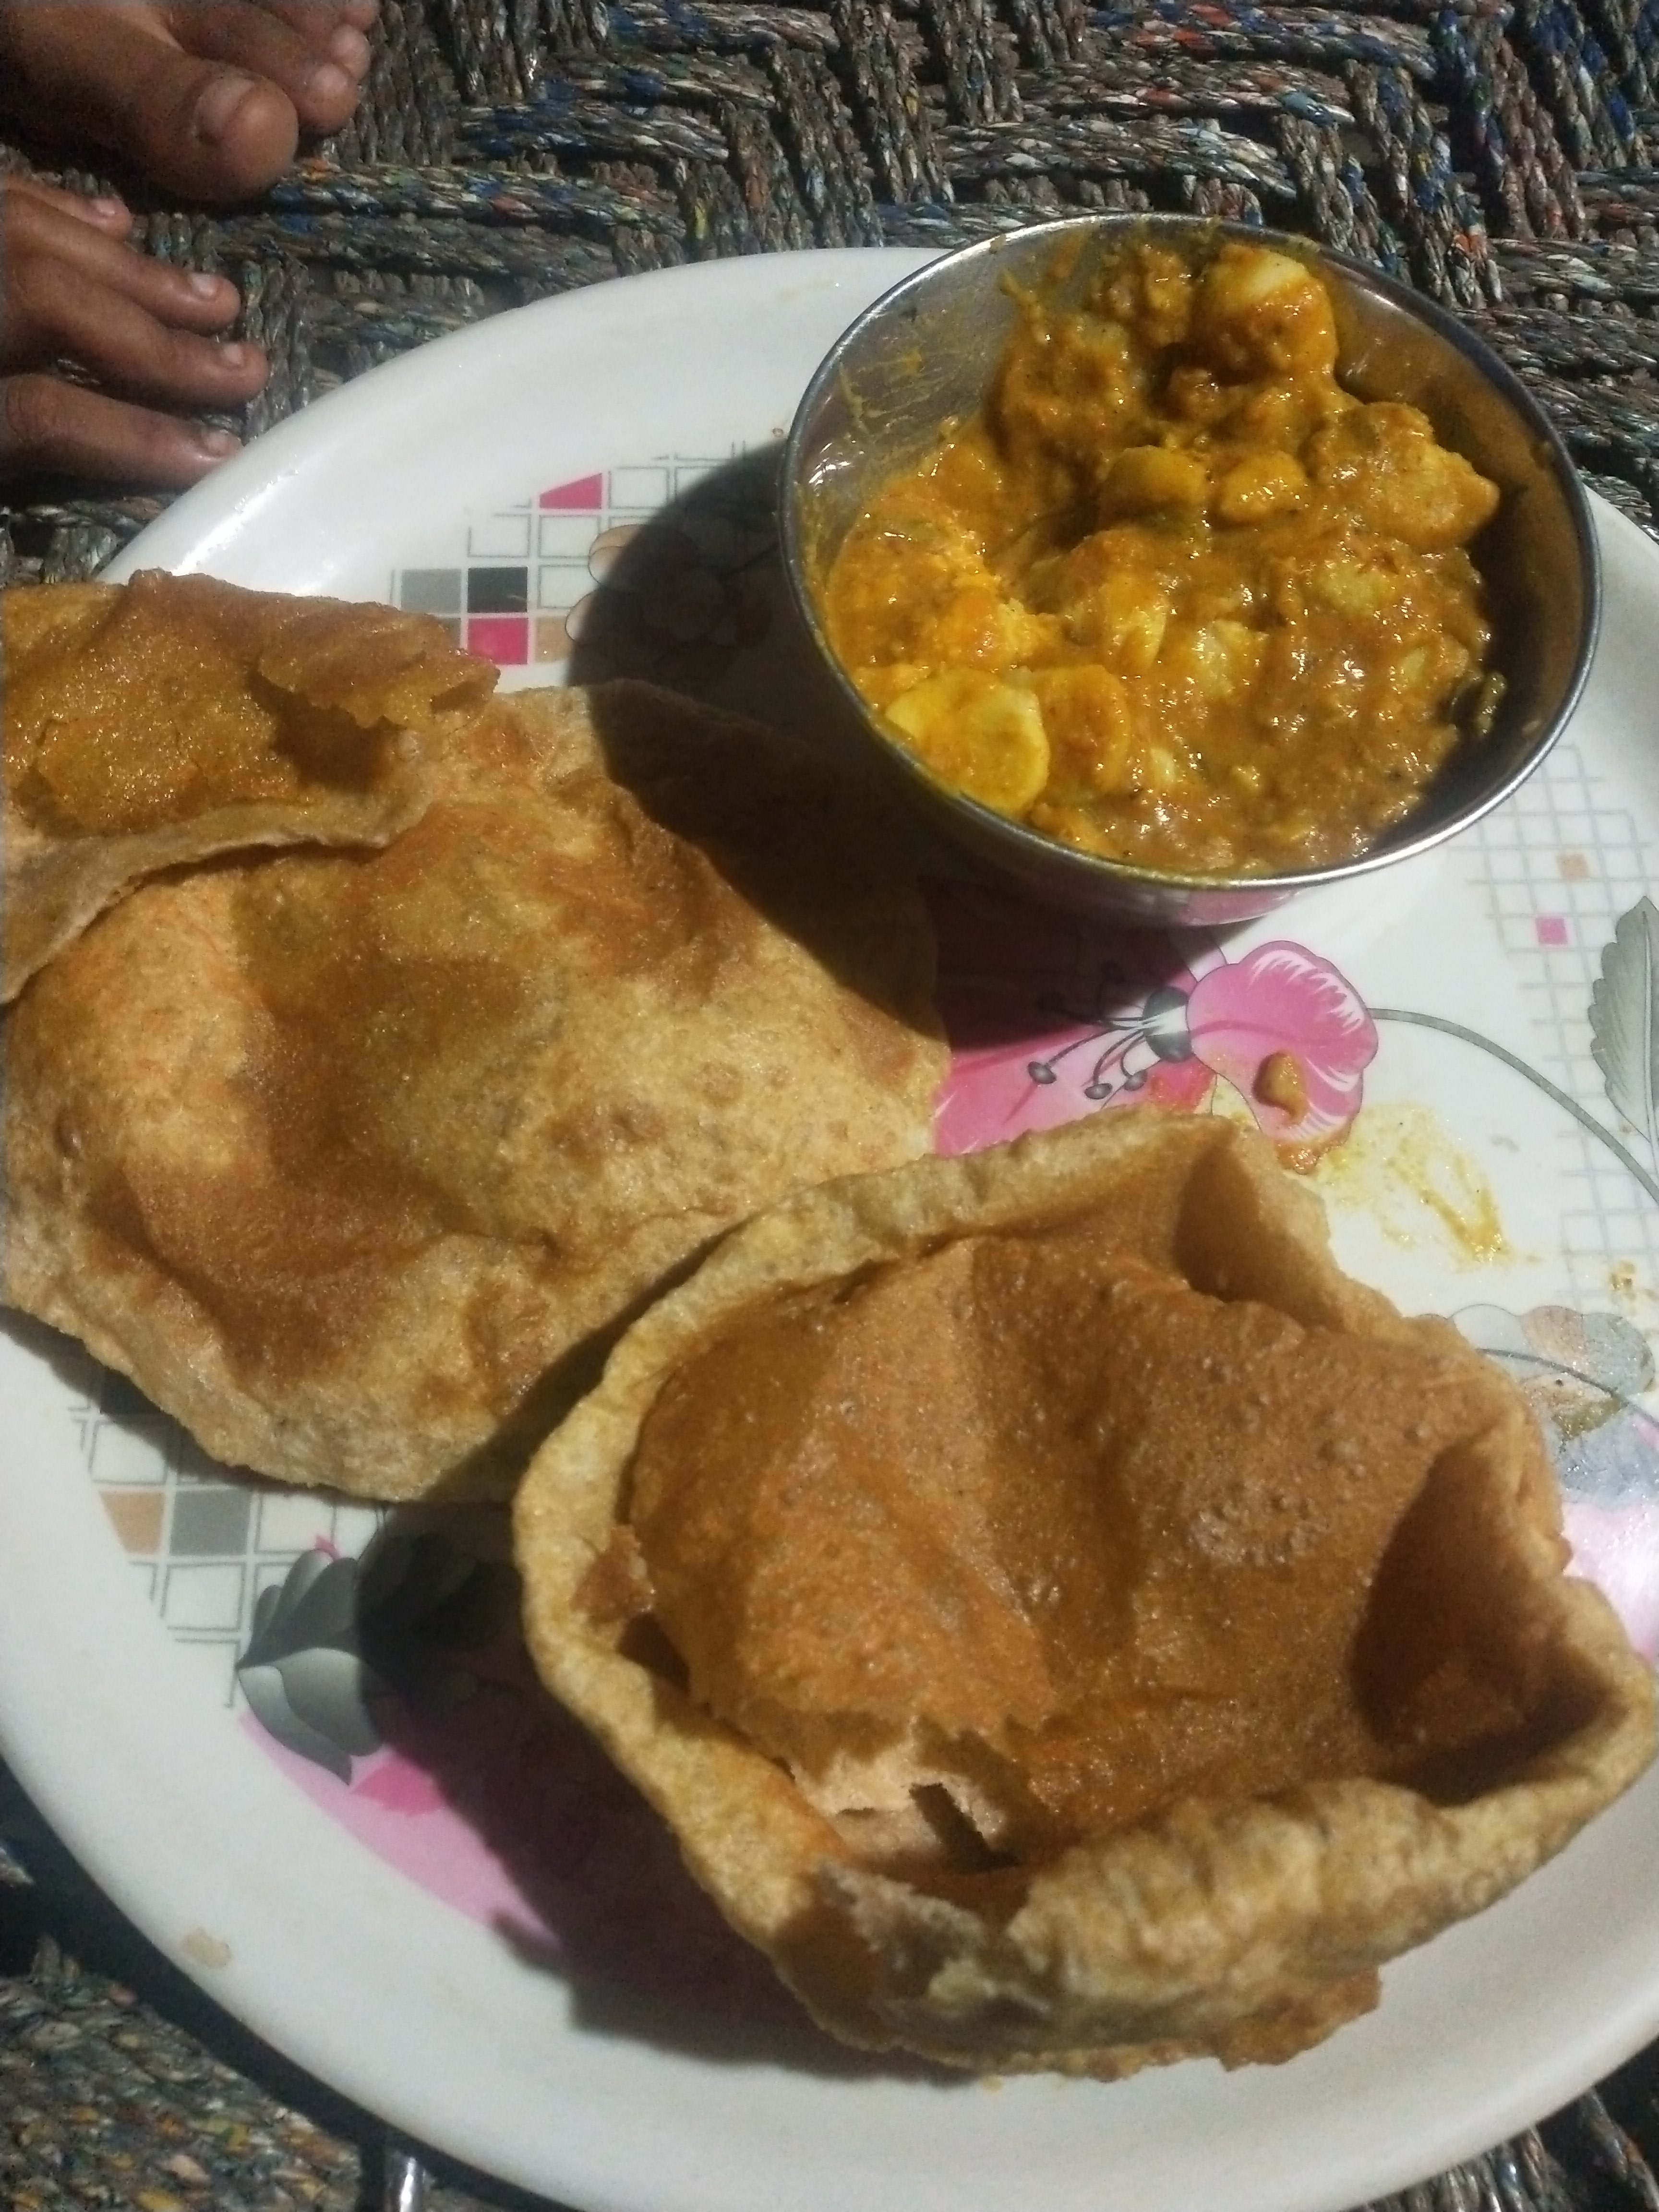food: (0, 202, 1659, 2087)
